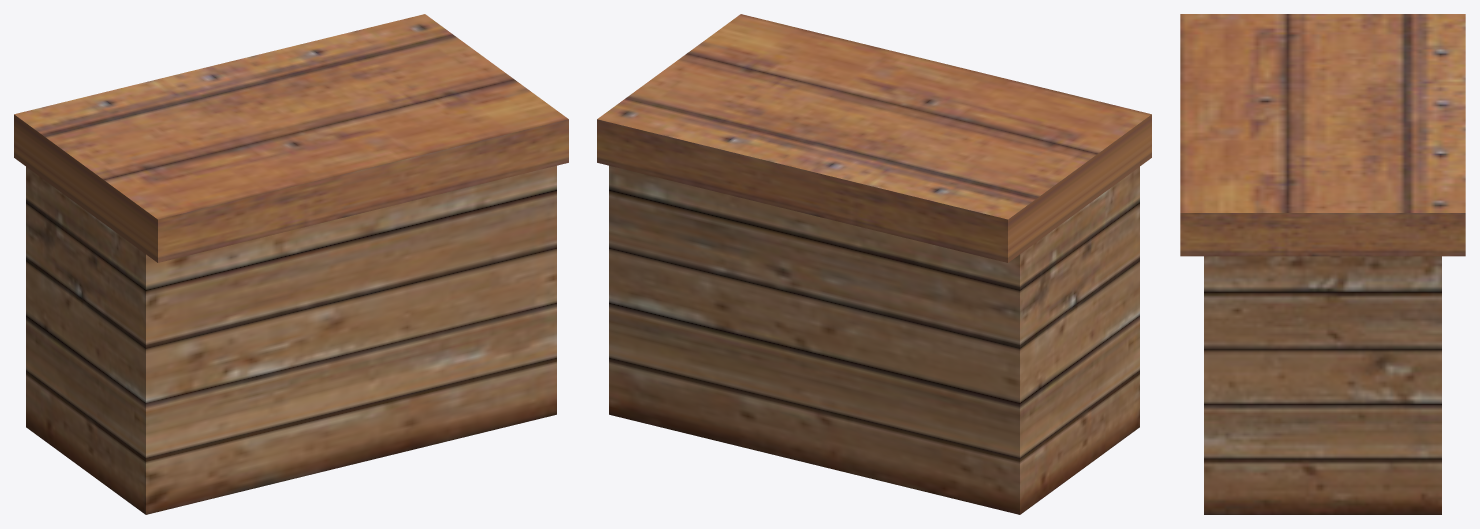
File: Cabin_Bar.obj
3 renders of one model, left to right at view 1: azimuth 30°, elevation 25°; view 2: azimuth 150°, elevation 25°; view 3: azimuth 270°, elevation 25°, orthographic.
Visible parts, largest first — view 1: Bar_Cube.001; view 2: Bar_Cube.001; view 3: Bar_Cube.001.
Boxes of the visible parts, x1=… form: Bar_Cube.001: x1=14, y1=14, x2=568, y2=514; Bar_Cube.001: x1=597, y1=14, x2=1151, y2=514; Bar_Cube.001: x1=1180, y1=14, x2=1465, y2=514.
Bounding box in the file's own units: 0.99 × 0.7 × 0.6.
